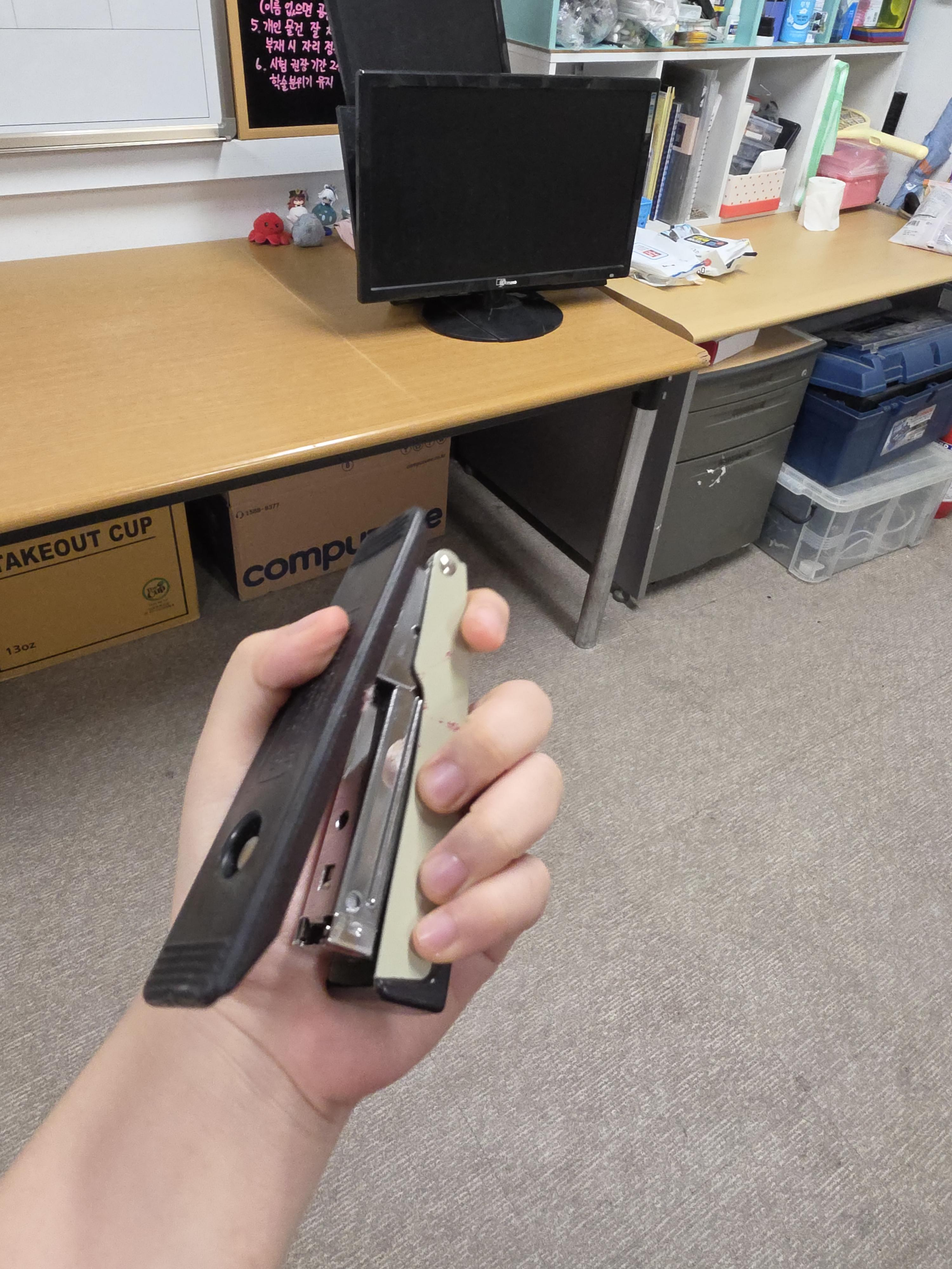stapler: (142, 505, 470, 1014)
tissue: (630, 222, 759, 287), (799, 175, 846, 232)
